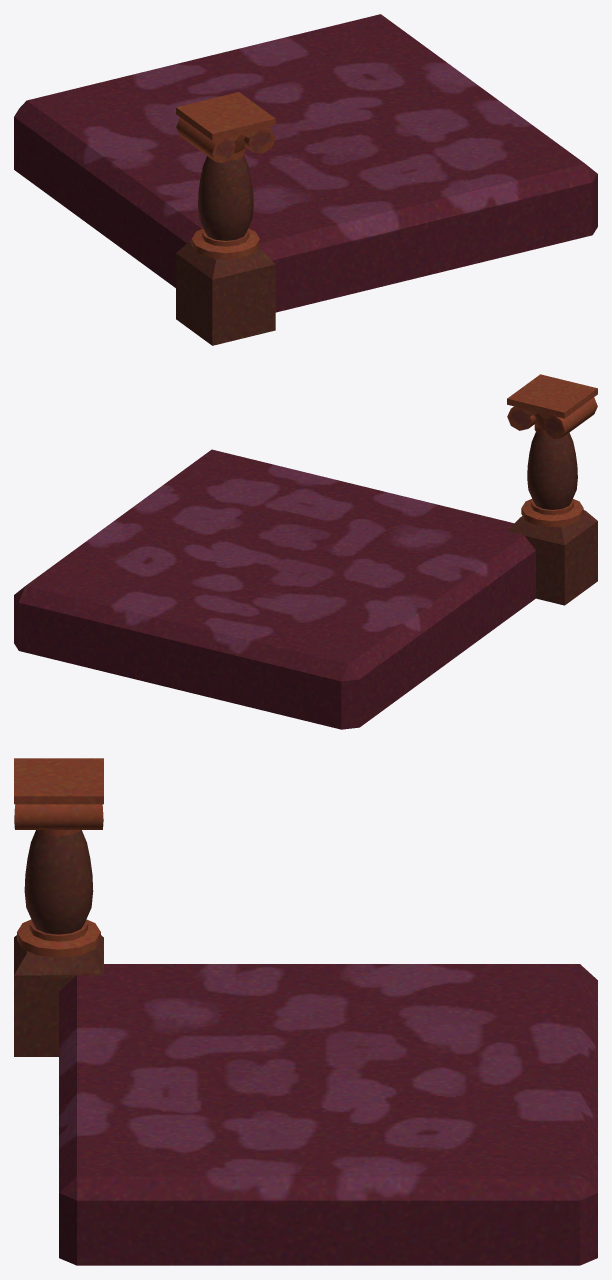
The model's file is FLOOR.fbx.
The picture shows the model from 3 angles, top to bottom: view 1: azimuth 30°, elevation 25°; view 2: azimuth 150°, elevation 25°; view 3: azimuth 270°, elevation 25°; orthographic projection. The views are drawn at different scales.
Visible parts, largest first — view 1: Floor, Collumn, Collumn.001; view 2: Floor, Collumn, Collumn.001; view 3: Floor, Collumn, Collumn.001.
Boxes of the visible parts, x1,y1,x2,y2 form: Floor: (14,14,597,312); Collumn: (176,92,275,345); Collumn.001: (176,117,275,163); Floor: (14,449,535,729); Collumn: (507,374,597,605); Collumn.001: (507,397,597,439); Floor: (59,964,597,1265); Collumn: (14,758,103,1056); Collumn.001: (14,804,103,829).
Bounding box in the file's own units: 650 × 320 × 650.
Materials: 1 (1 with a texture image).
